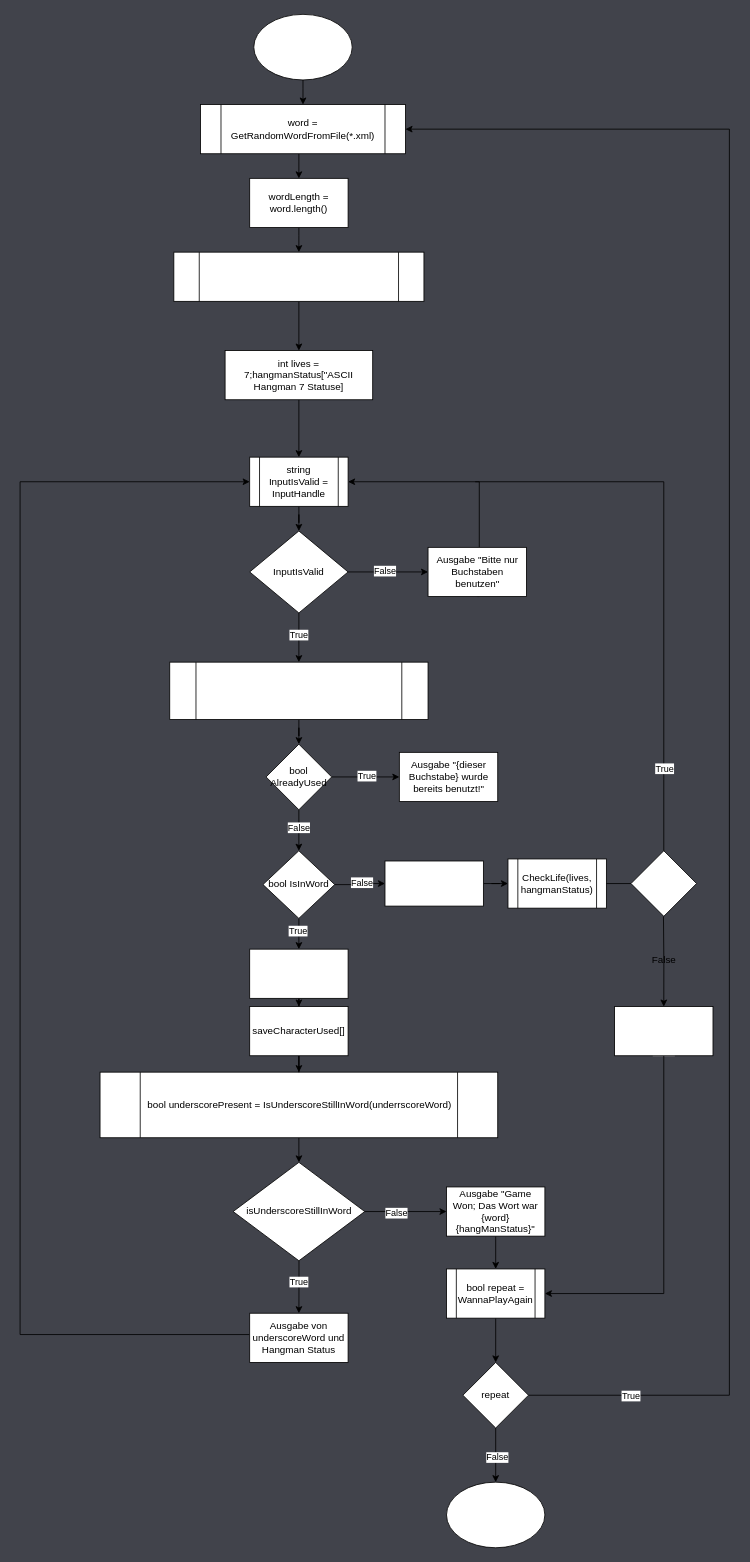
The diagram is 750 pixels wide and 1562 high, and some of its shapes have lost their labels. The box of each missing label's shape, as (x1, y1, x2, y2) in pixels:
Ausgabe "Game Over; {hangmanStatus}": (614, 1006, 713, 1056)
bool IsInWord = IsCharacterInWord(word,underScoreWord): (169, 661, 428, 720)
ENDE: (446, 1481, 545, 1548)
life > 0: (630, 850, 697, 916)
lives--; Ausgabe "[Hangmanstatus]": (384, 860, 483, 906)
START: (253, 14, 352, 80)
underscoreWord = Turn each fitting underscores to the character: (249, 948, 348, 998)
underscoreWord = TurnWordInUnderscores(wordLength): (173, 251, 424, 301)
